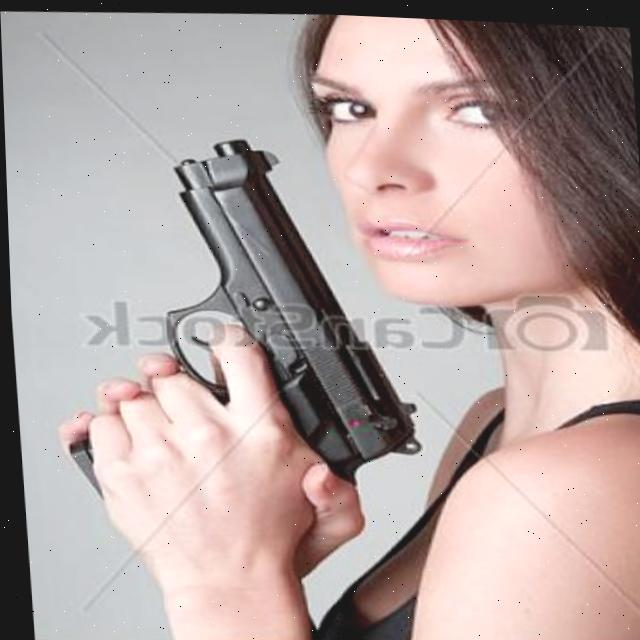pistol: (25, 103, 428, 535)
